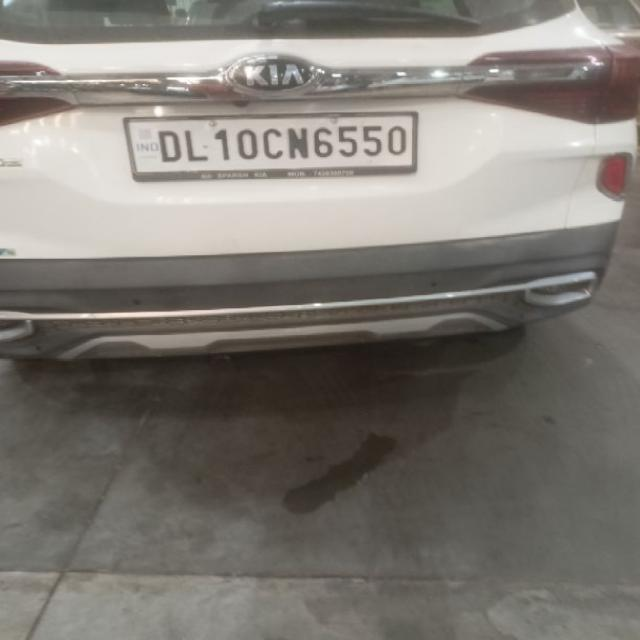license_plate: (122, 110, 420, 180)
